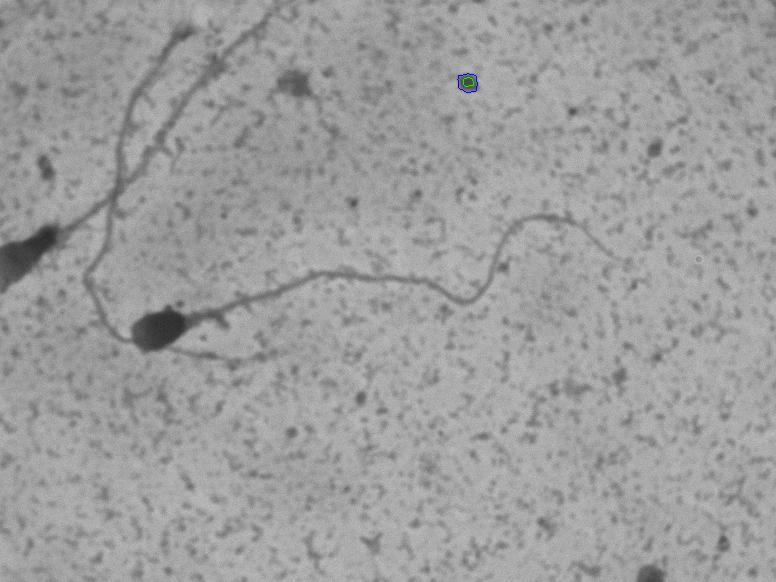Normal: (126, 195, 629, 366)
